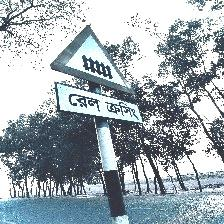Rail-crossing: (51, 24, 142, 127)
